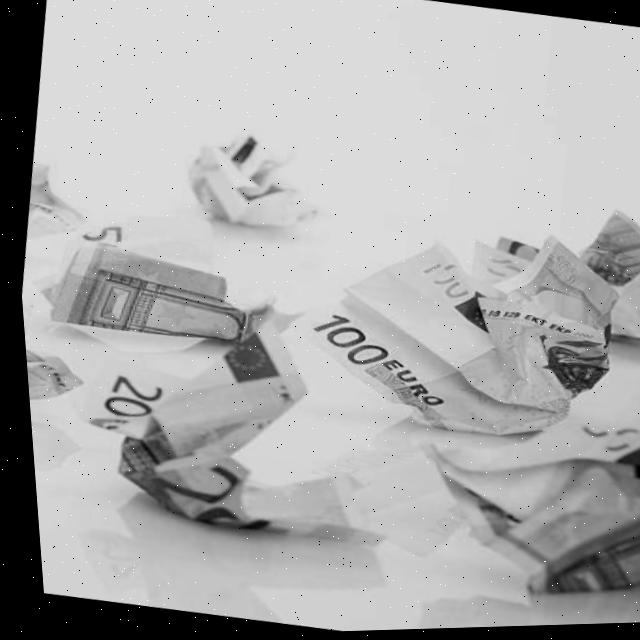banknote: (260, 196, 640, 471), (90, 293, 403, 573), (383, 392, 640, 621), (26, 204, 291, 362), (157, 109, 350, 250), (110, 430, 315, 553), (511, 192, 640, 361), (296, 304, 396, 380), (20, 338, 110, 417), (20, 162, 105, 240), (87, 361, 173, 430), (404, 251, 478, 309)
